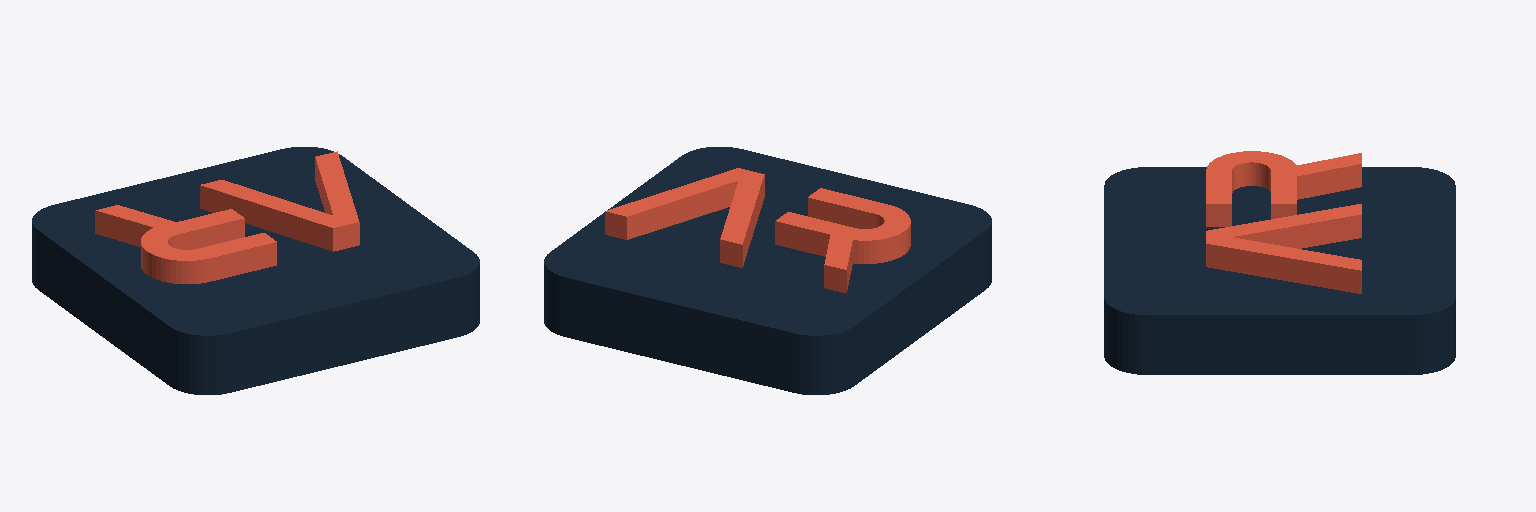
Rendered from ARButton.obj.
3 views of the same model, side by side, from view 1: azimuth 30°, elevation 25°; view 2: azimuth 150°, elevation 25°; view 3: azimuth 270°, elevation 25° (orthographic).
Visible parts, largest first — view 1: ARButton; view 2: ARButton; view 3: ARButton.
Part boxes in pixels (bbox=[...]): ARButton: bbox=[32, 147, 479, 394]; ARButton: bbox=[544, 147, 991, 394]; ARButton: bbox=[1104, 151, 1455, 374].
Size of the model in its own units: 0.26 by 0.0733 by 0.26.